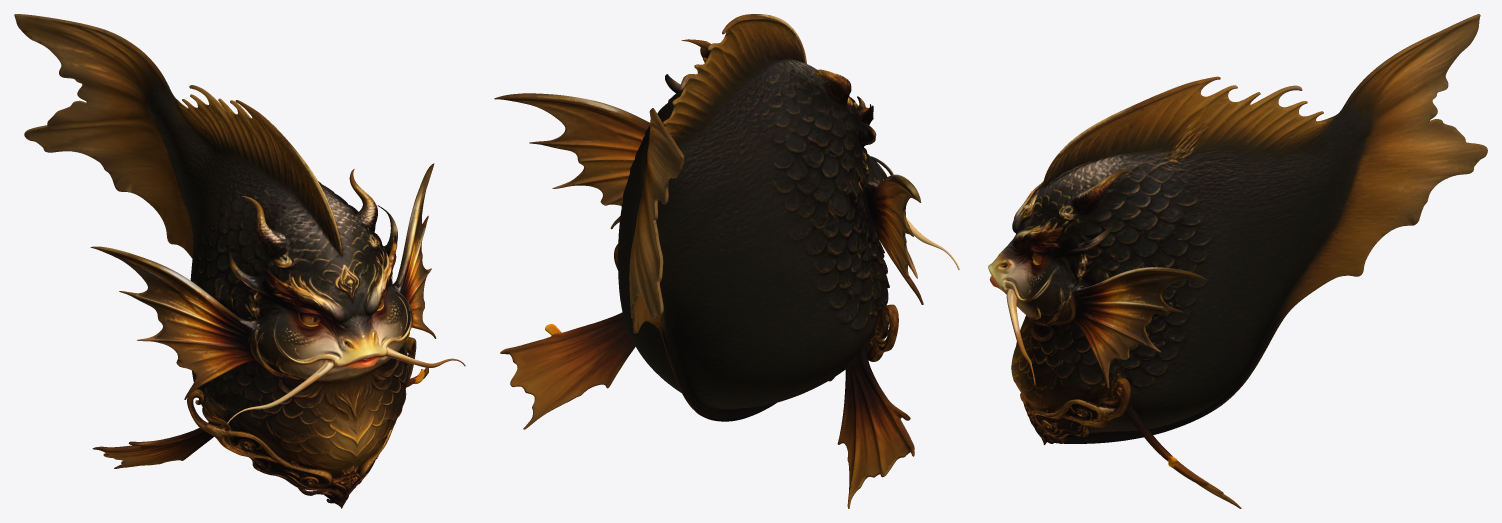
Rendered from chi-ru.glb.
The picture shows the model from 3 angles, left to right: view 1: azimuth 30°, elevation 25°; view 2: azimuth 150°, elevation 25°; view 3: azimuth 270°, elevation 25°; orthographic projection. The views are drawn at different scales.
Parts seen in each view (by area): view 1: node_0; view 2: node_0; view 3: node_0.
Part boxes in pixels (x1=…): node_0: x1=14, y1=14, x2=465, y2=508; node_0: x1=494, y1=14, x2=959, y2=508; node_0: x1=988, y1=14, x2=1487, y2=508.
Bounding box in the file's own units: 0.7054 × 0.7206 × 0.8699.
Materials: 1 (1 with a texture image).
